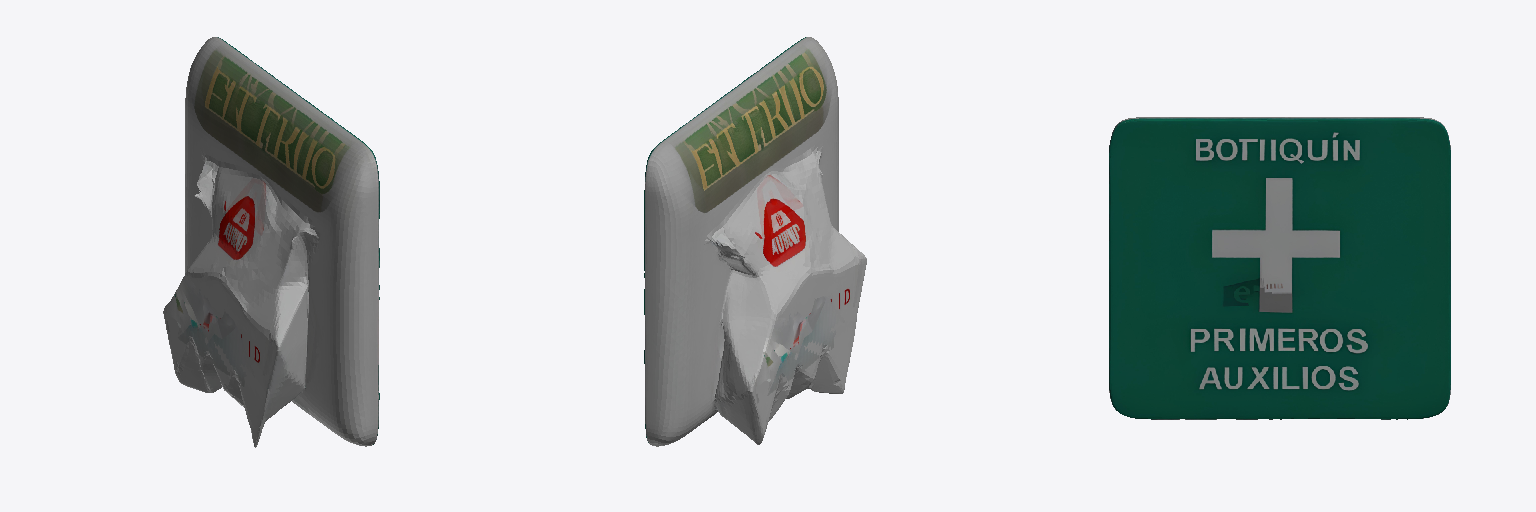
The picture shows the model from 3 angles: view 1: azimuth 30°, elevation 25°; view 2: azimuth 150°, elevation 25°; view 3: azimuth 270°, elevation 25°; orthographic projection.
Visible parts, largest first — view 1: tripo_node_fdafef72-7693-41fd-8fa6-ded2c43c1706; view 2: tripo_node_fdafef72-7693-41fd-8fa6-ded2c43c1706; view 3: tripo_node_fdafef72-7693-41fd-8fa6-ded2c43c1706.
Boxes of the visible parts, box(x1,y1,x2,y2) form: tripo_node_fdafef72-7693-41fd-8fa6-ded2c43c1706: box(163, 37, 379, 447); tripo_node_fdafef72-7693-41fd-8fa6-ded2c43c1706: box(644, 37, 866, 446); tripo_node_fdafef72-7693-41fd-8fa6-ded2c43c1706: box(1109, 117, 1450, 419).
Size of the model in its own units: 0.2615 by 0.9971 by 0.9941.
Materials: 1 (1 with a texture image).